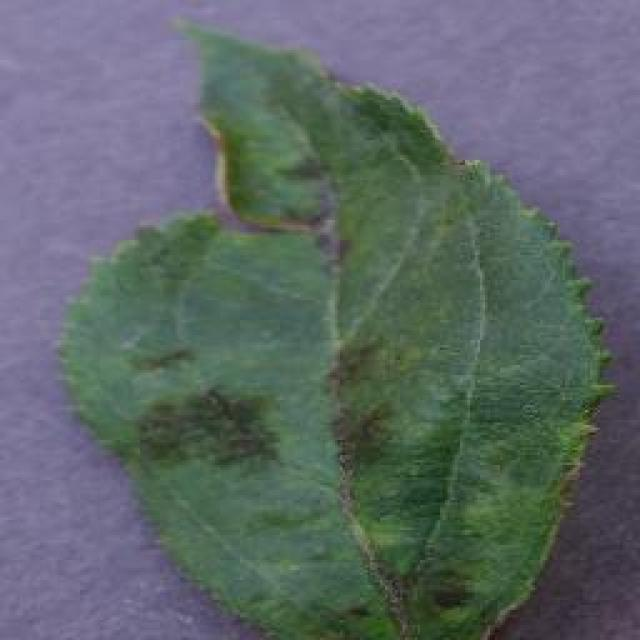apple scab disease: (55, 12, 617, 638)
